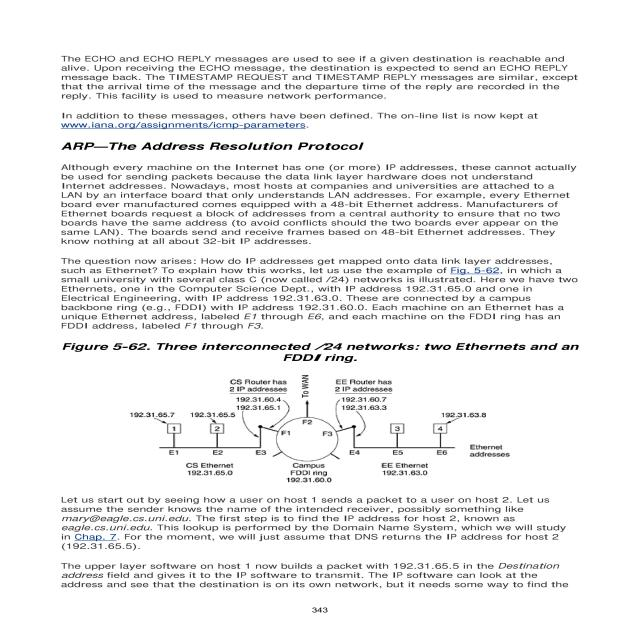diagram: (57, 336, 592, 482)
